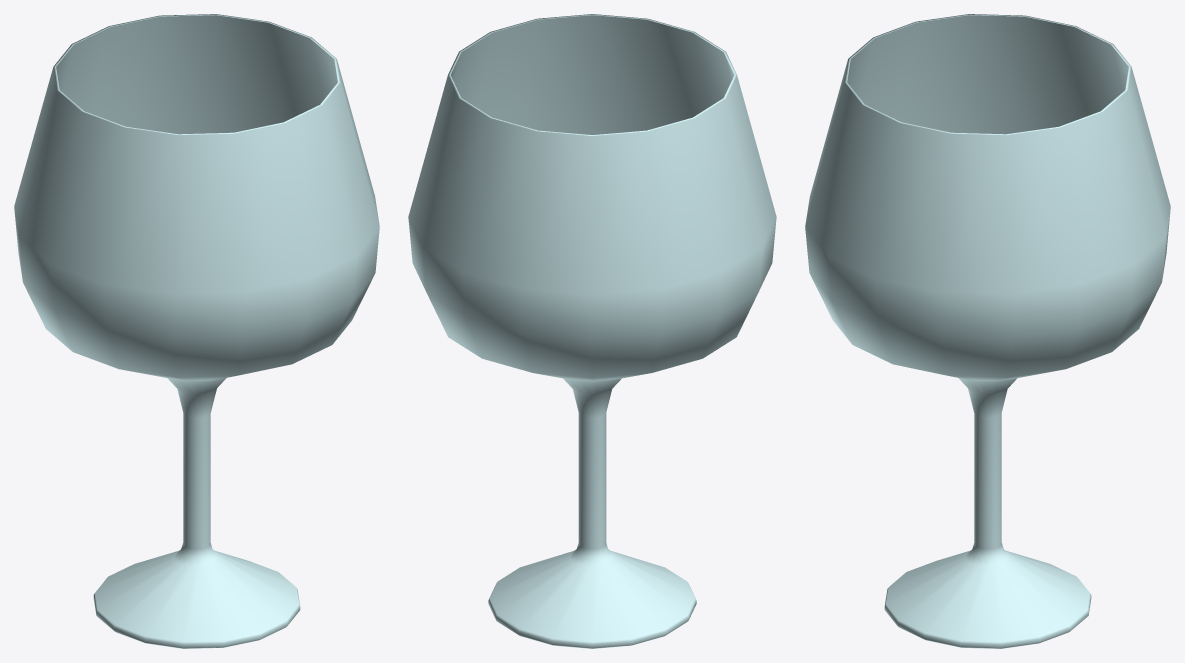
File: Store_1_Glass_of_Wine_2.glb
3 views of the same model, side by side, from view 1: azimuth 30°, elevation 25°; view 2: azimuth 150°, elevation 25°; view 3: azimuth 270°, elevation 25° (orthographic).
Visible parts, largest first — view 1: Store_1_Glass_of_Wine_2; view 2: Store_1_Glass_of_Wine_2; view 3: Store_1_Glass_of_Wine_2.
Boxes of the visible parts, x1,y1,x2,y2 form: Store_1_Glass_of_Wine_2: (14,14,379,648); Store_1_Glass_of_Wine_2: (408,14,776,648); Store_1_Glass_of_Wine_2: (805,14,1170,648).
Bounding box in the file's own units: 0.1784 × 0.2861 × 0.1784.
1 material, 1 textured.
